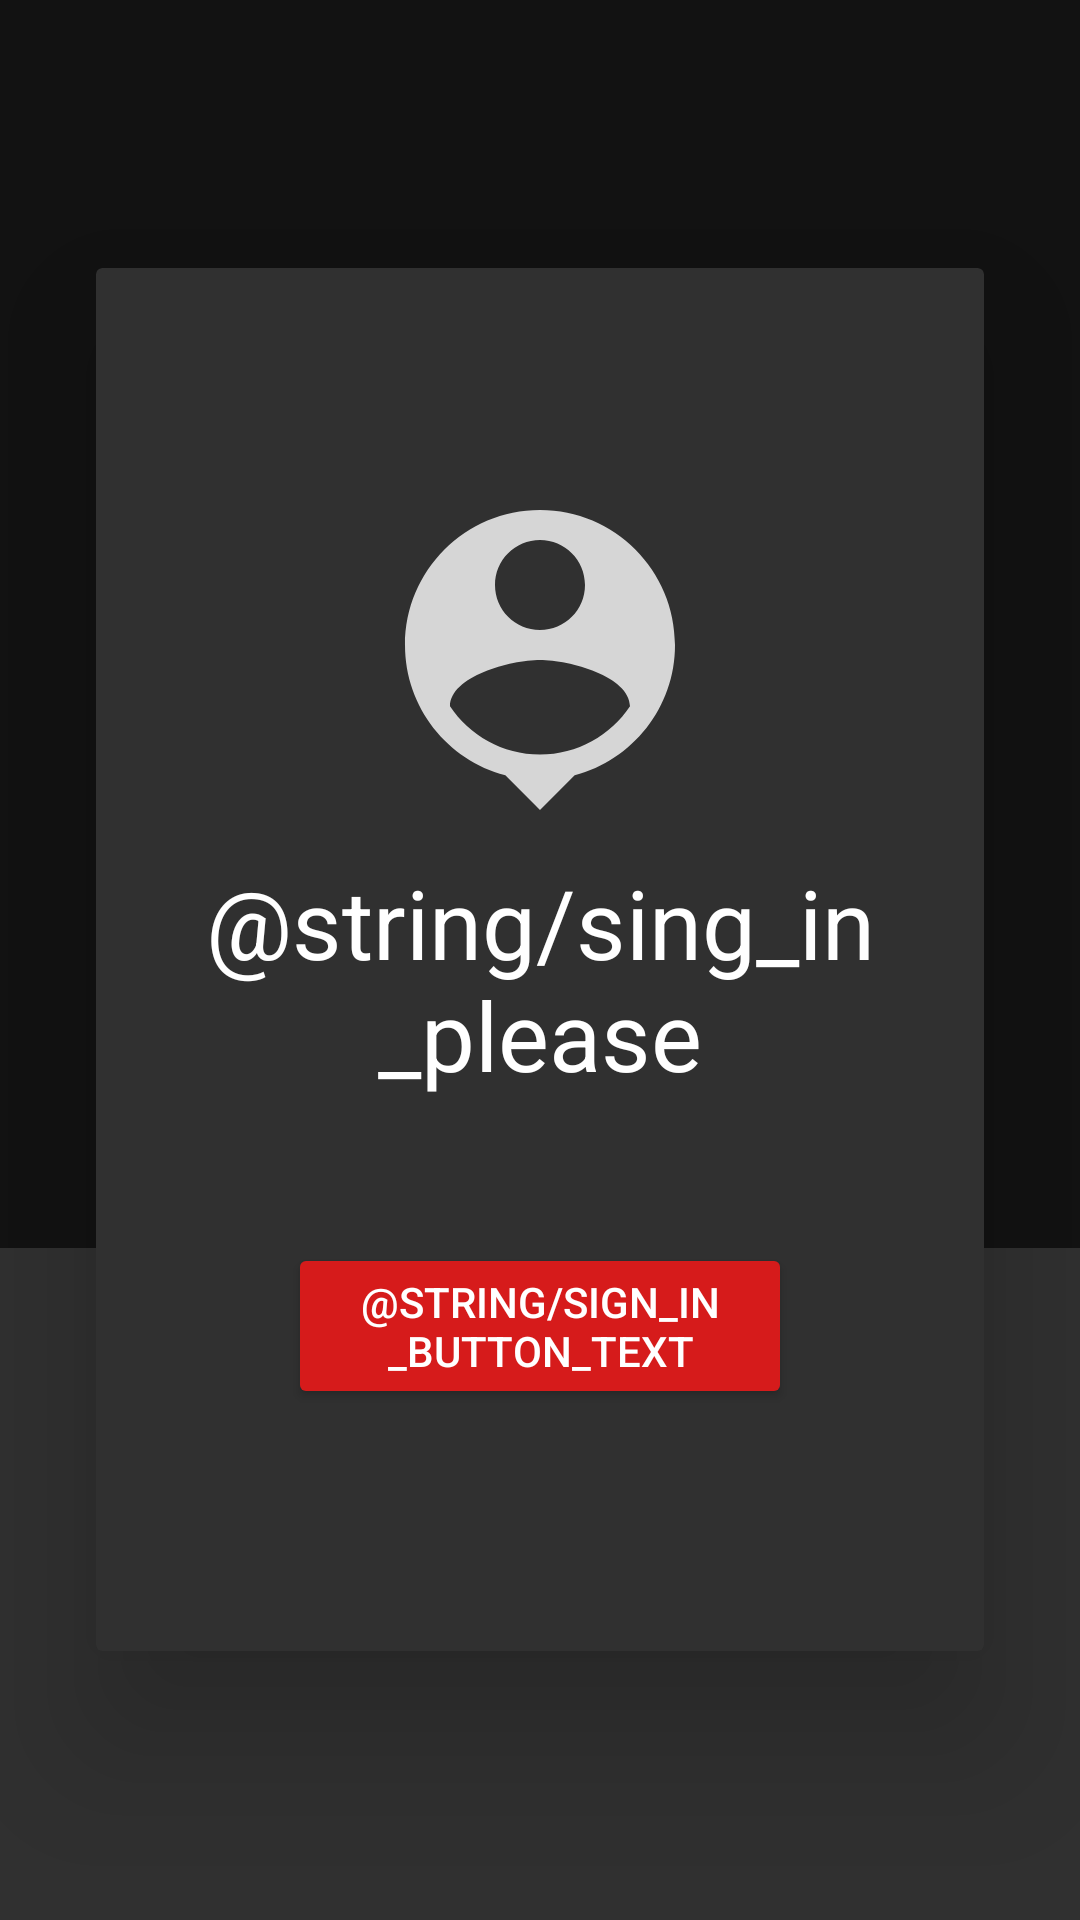

Icons on this 1080x1920 Android screen, each with the point to tap as [x,y]:
person pin: [540,660]
